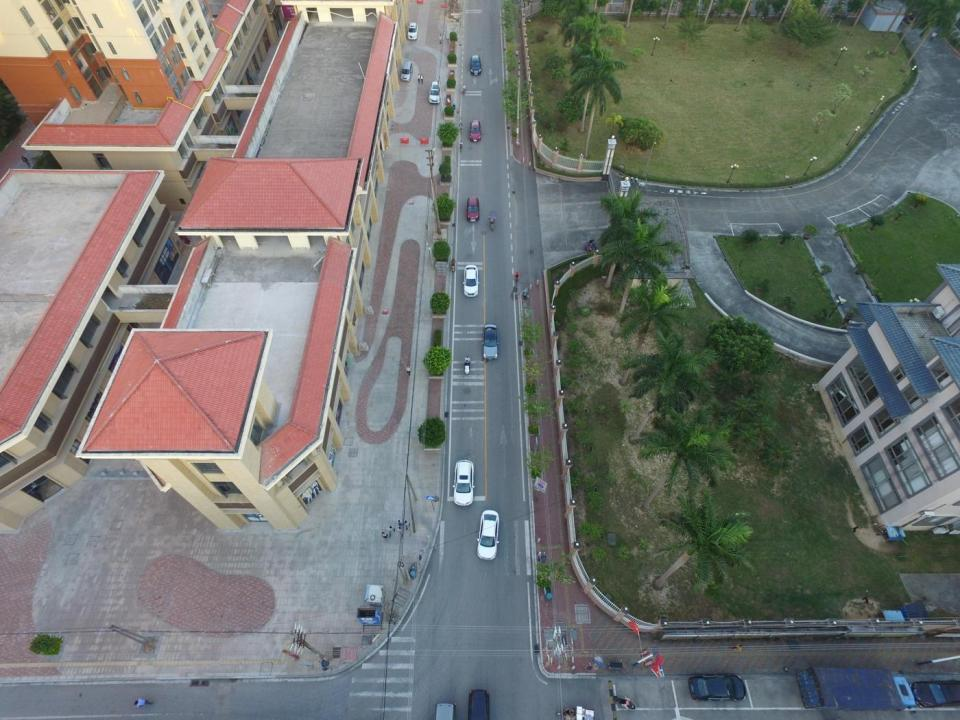car: (687, 672, 747, 703), (909, 678, 960, 708), (477, 510, 499, 560), (452, 459, 475, 506), (467, 688, 491, 720), (481, 323, 499, 361), (462, 264, 479, 298), (464, 195, 481, 223), (435, 701, 457, 720), (468, 119, 482, 143), (428, 80, 440, 104), (470, 54, 482, 76), (407, 22, 418, 40)
truck: (795, 667, 915, 711)
van: (400, 60, 413, 81)
